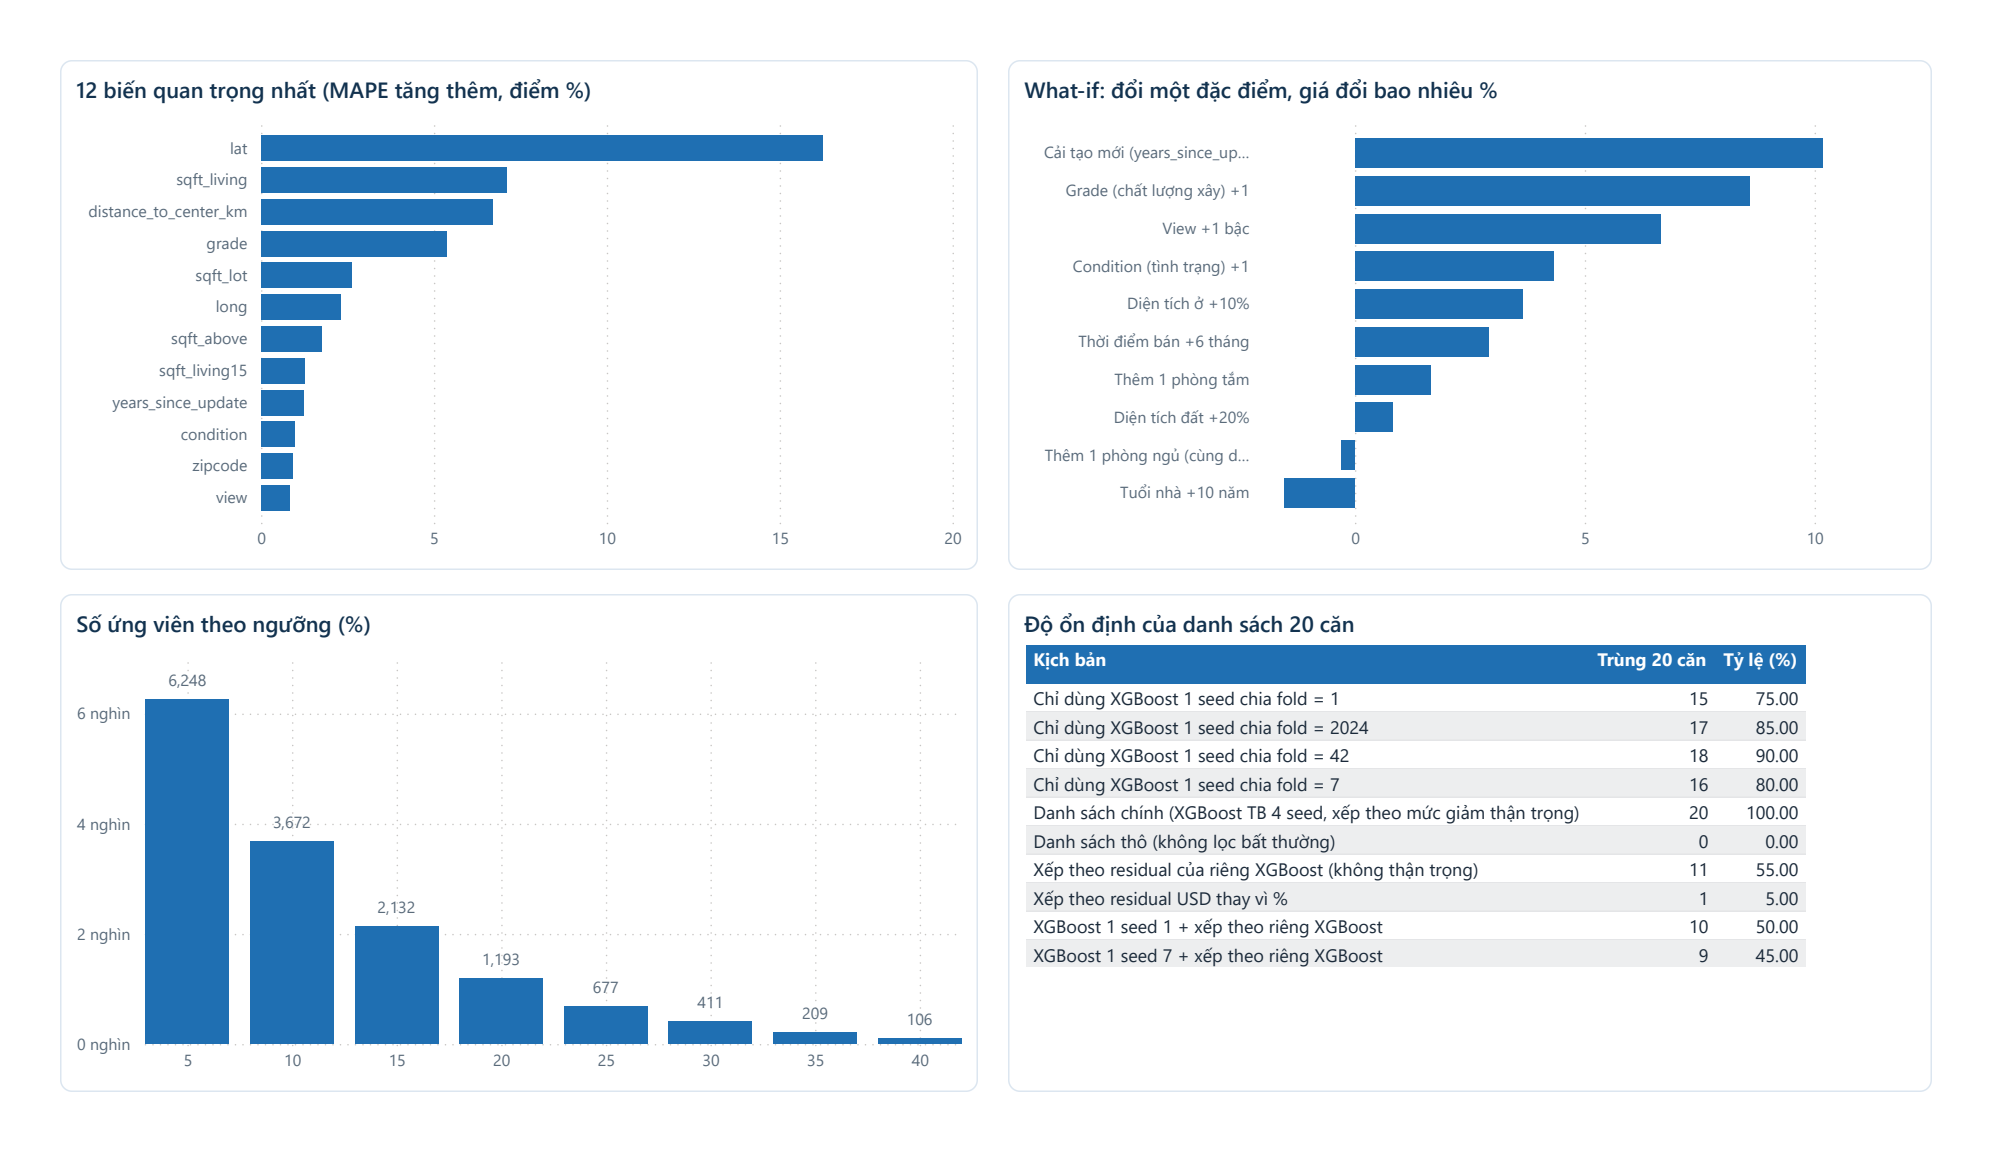

What the dashboard file says about the page in this screenshot:
{"tool":"powerbi","page":{"name":"6. Mô hình và độ nhạy","canvas":[1280,720],"ordinal":5},"visuals":[{"type":"barChart","title":"12 biến quan trọng nhất (MAPE tăng thêm, điểm %)","fields":{"Category":["ImportanceTop.Biến"],"Y":["KPI.MAPE tăng (điểm %)"]},"box":[16,16,612,340],"z":1},{"type":"barChart","title":"What-if: đổi một đặc điểm, giá đổi bao nhiêu %","fields":{"Category":["WhatIfScenarios.Kịch bản"],"Y":["KPI.Thay đổi giá (%)"]},"box":[648,16,616,340],"z":1},{"type":"clusteredColumnChart","title":"Số ứng viên theo ngưỡng (%)","fields":{"Category":["Sensitivity.Ngưỡng (%)"],"Y":["KPI.Số ứng viên theo ngưỡng"]},"box":[16,372,612,332],"z":1},{"type":"tableEx","title":"Độ ổn định của danh sách 20 căn","fields":{"Values":["Stability.Kịch bản","Stability.Trùng 20 căn","Stability.Tỷ lệ (%)"]},"box":[648,372,616,332],"z":1}]}

Visuals, with their boxes in screenshot pixels (x1, y1, x2, y2), scaled from the page's 1280x720 canvas onto the 1992x1152 screenshot:
"12 biến quan trọng nhất (MAPE tăng thêm, điểm %)" barChart: Rect(25, 26, 977, 570)
"What-if: đổi một đặc điểm, giá đổi bao nhiêu %" barChart: Rect(1008, 26, 1967, 570)
"Số ứng viên theo ngưỡng (%)" clusteredColumnChart: Rect(25, 595, 977, 1126)
"Độ ổn định của danh sách 20 căn" tableEx: Rect(1008, 595, 1967, 1126)
